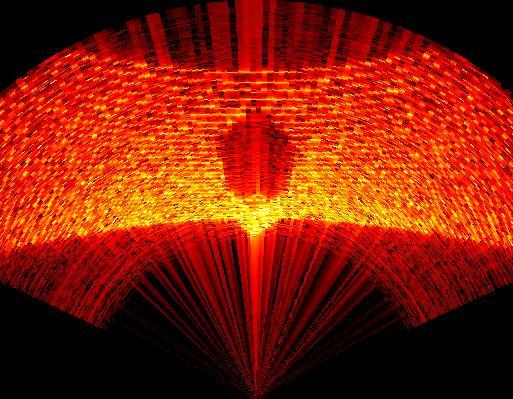box_crate: (217, 110, 305, 211)
